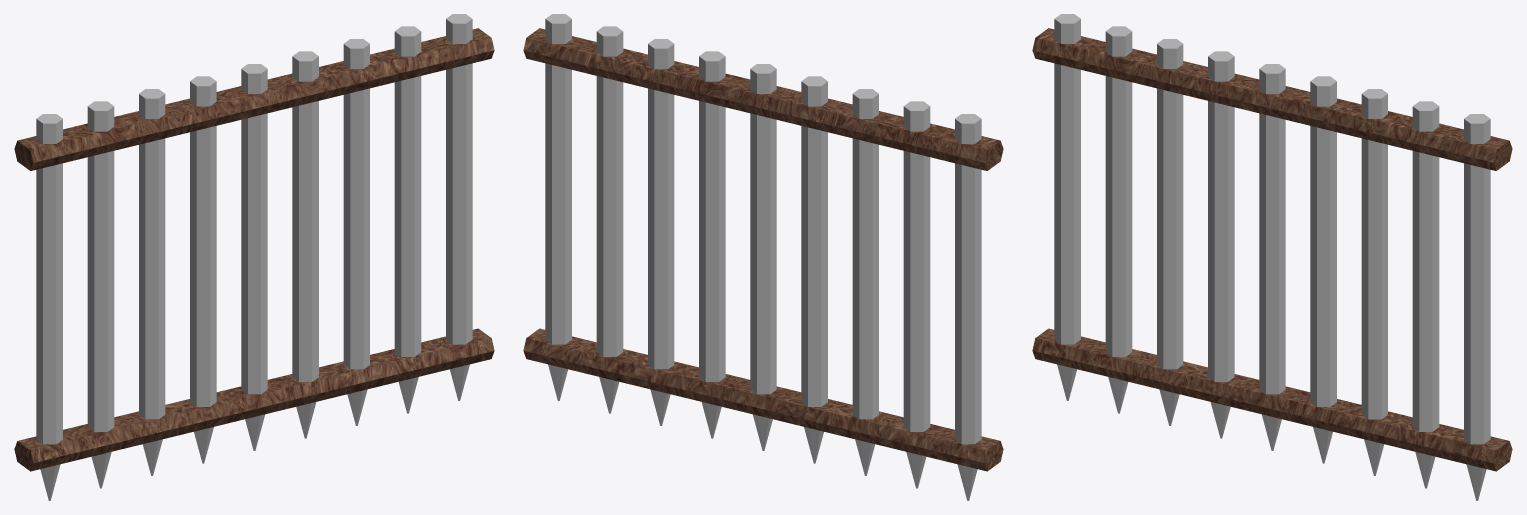
Rendered from Gate.fbx.
3 renders of one model, left to right at view 1: azimuth 30°, elevation 25°; view 2: azimuth 150°, elevation 25°; view 3: azimuth 330°, elevation 25°, orthographic.
Visible parts, largest first — view 1: Gate; view 2: Gate; view 3: Gate.
Boxes of the visible parts, x1=… form: Gate: x1=14, y1=14, x2=494, y2=500; Gate: x1=523, y1=14, x2=1003, y2=500; Gate: x1=1032, y1=14, x2=1512, y2=500.
Bounding box in the file's own units: 360 × 285 × 25.78.
